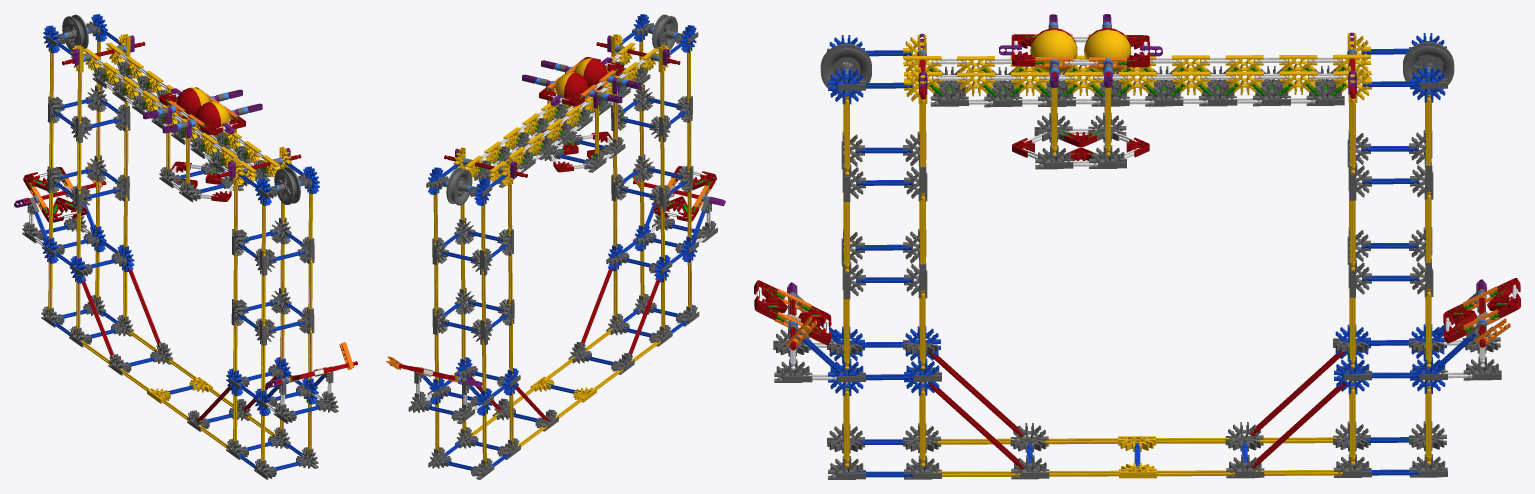
3 renders of one model, left to right at view 1: azimuth 30°, elevation 25°; view 2: azimuth 150°, elevation 25°; view 3: azimuth 270°, elevation 25°, orthographic. The views are drawn at different scales.
Parts seen in each view (by area): view 1: P6_L10.009; view 2: P6_L10.009; view 3: P6_L10.009.
Part boxes in pixels (left/top/right/bottom): P6_L10.009: left=14, top=14, right=357, bottom=479; P6_L10.009: left=386, top=14, right=725, bottom=479; P6_L10.009: left=754, top=14, right=1520, bottom=479.
Bounding box in the file's own units: 0.5066 × 1.5 × 2.4.
